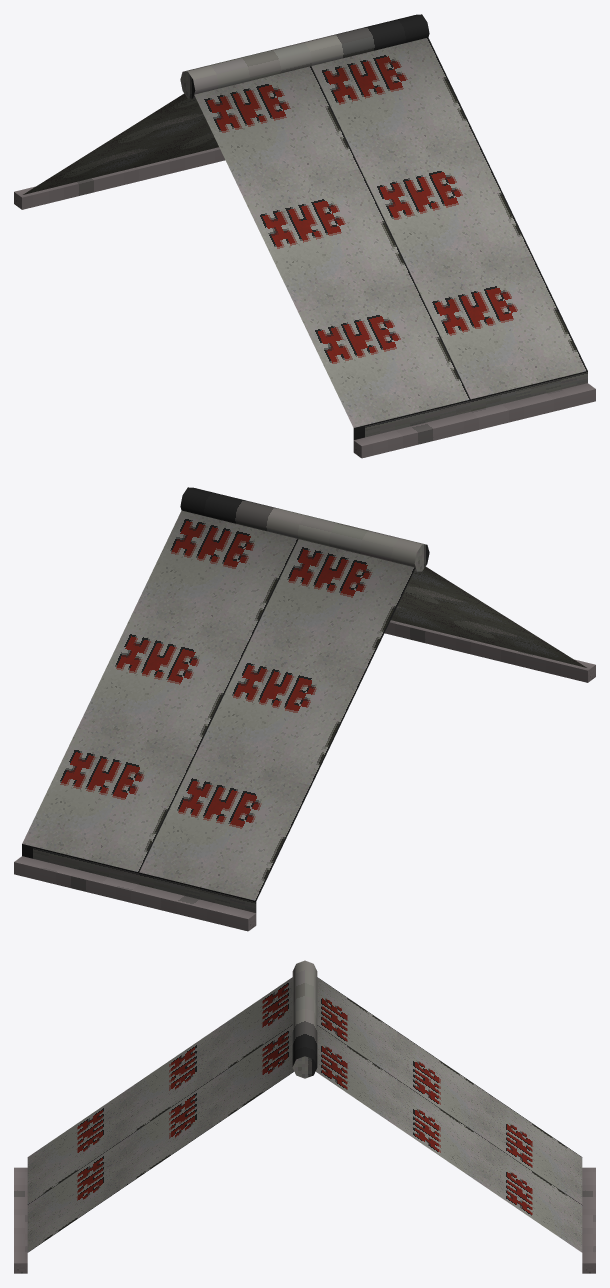
The model's file is roof_clay.glb.
3 renders of one model, top to bottom at view 1: azimuth 30°, elevation 25°; view 2: azimuth 150°, elevation 25°; view 3: azimuth 270°, elevation 25°, orthographic. The views are drawn at different scales.
Parts seen in each view (by area): view 1: roof_clay; view 2: roof_clay; view 3: roof_clay.
Boxes of the visible parts, x1,y1,x2,y2 form: roof_clay: (14,14,595,458); roof_clay: (14,487,595,931); roof_clay: (14,960,595,1273).
Bounding box in the file's own units: 2 × 2.12 × 5.14.
